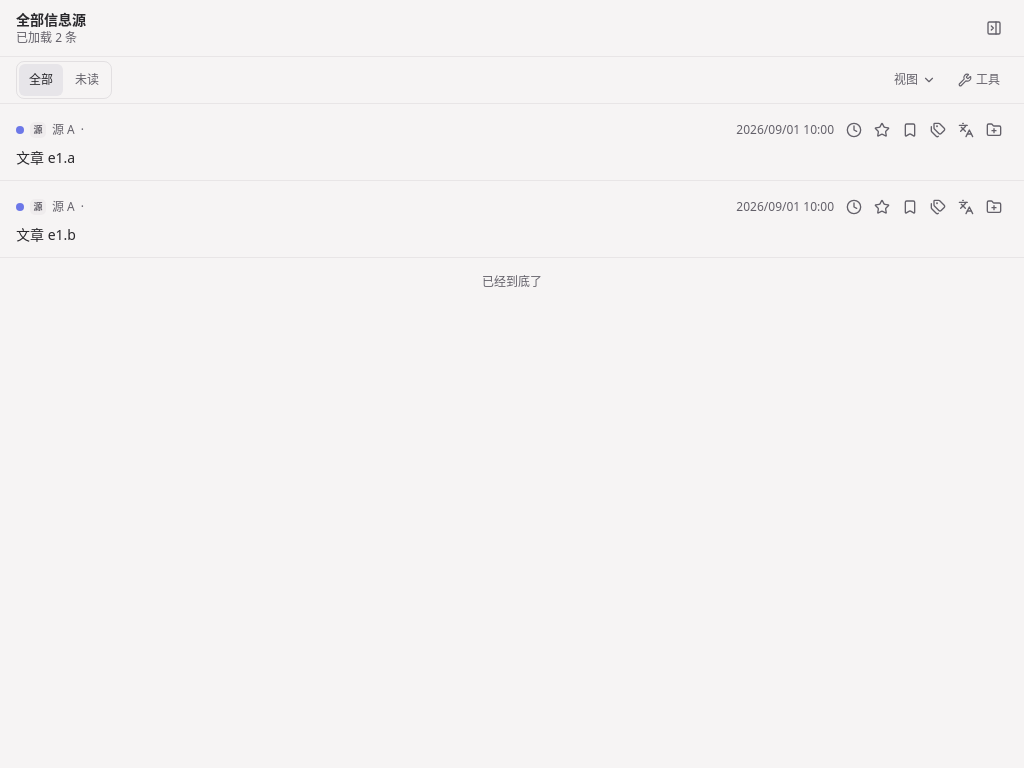
Test: R11 顶栏 — 视图选单（排序/聚合/选择） › 「选择文章」进入多选（批处理模式）；「退出多选」在顶栏可达
Click the button "视图" at x=915, y=80, box [886,64,944,96]
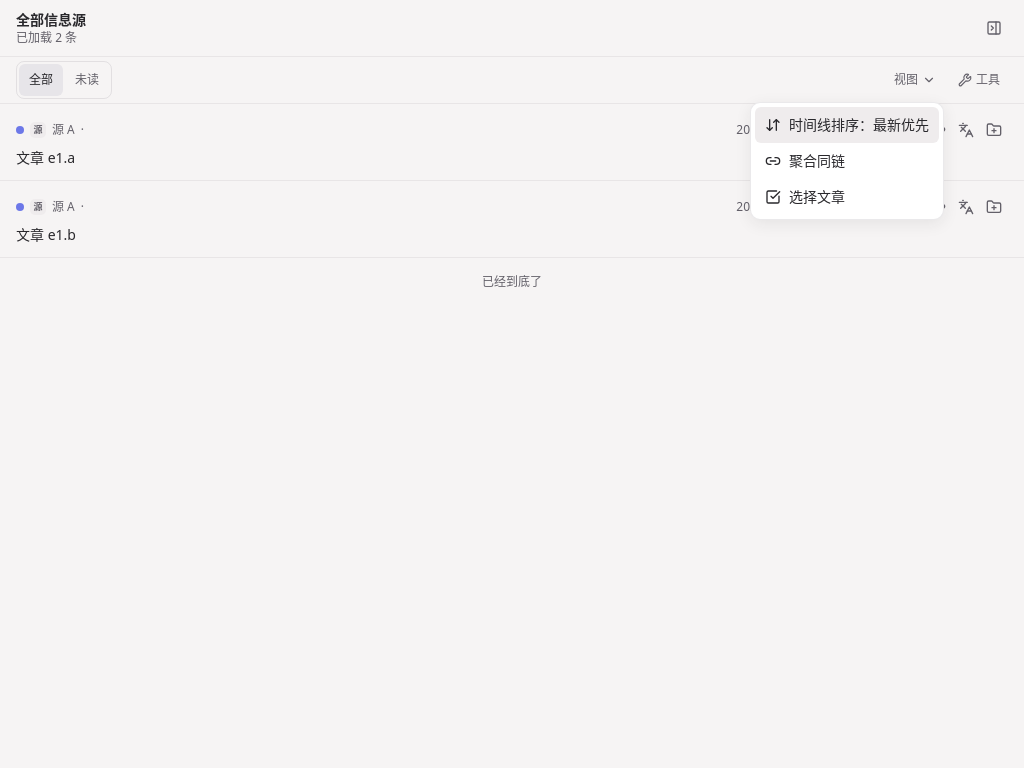
Click the menu item with test id "enter-select-mode" at x=805, y=196, box [765,187,845,206]
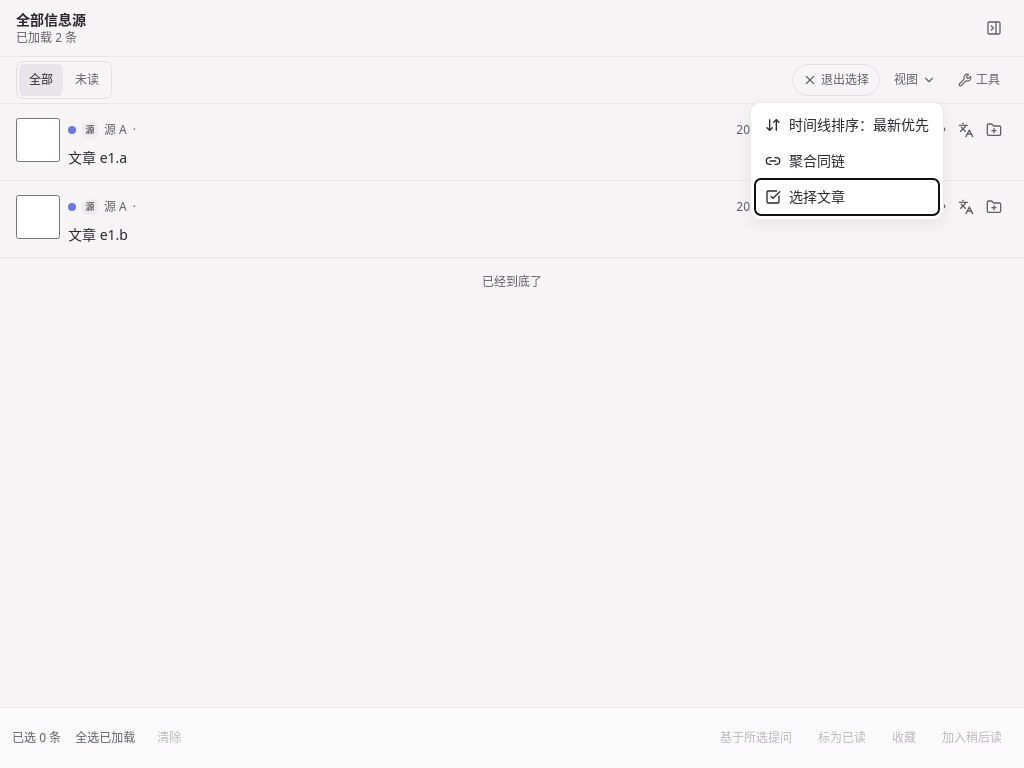
Check: the element with test id "batch-bar" is shown, box [0,707,1023,767]
Check: the button with aria-label "退出多选" is shown
Click the button with aria-label "退出多选" at x=836, y=80, box [792,64,880,96]
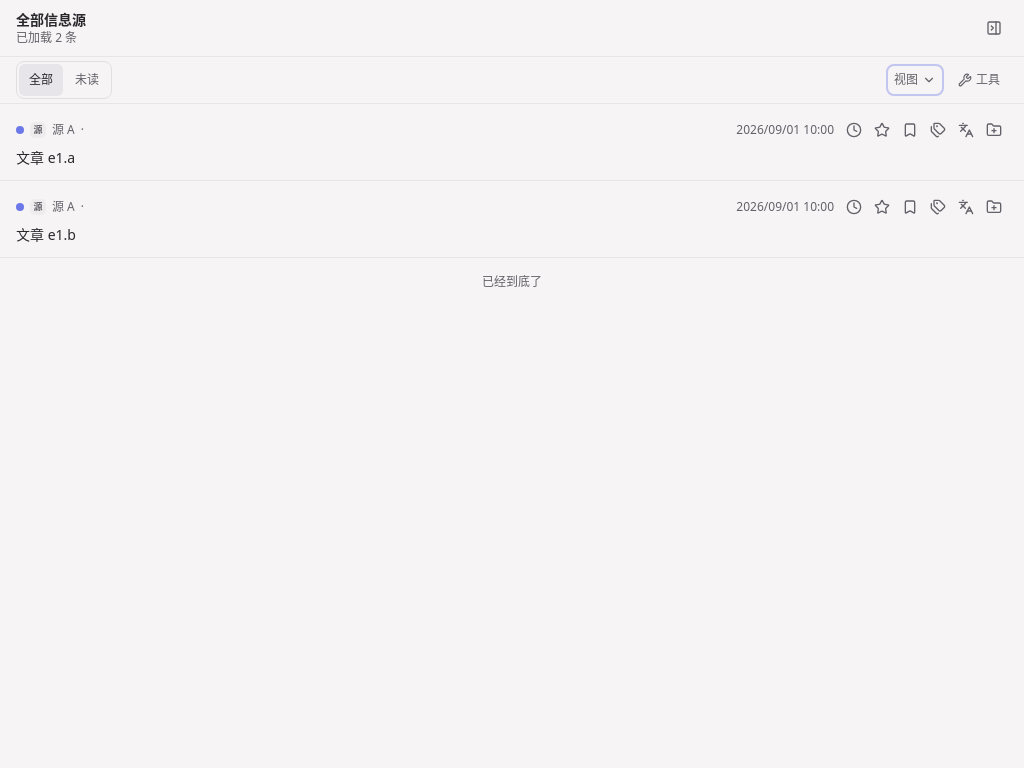
Check: the element with test id "batch-bar" is gone
